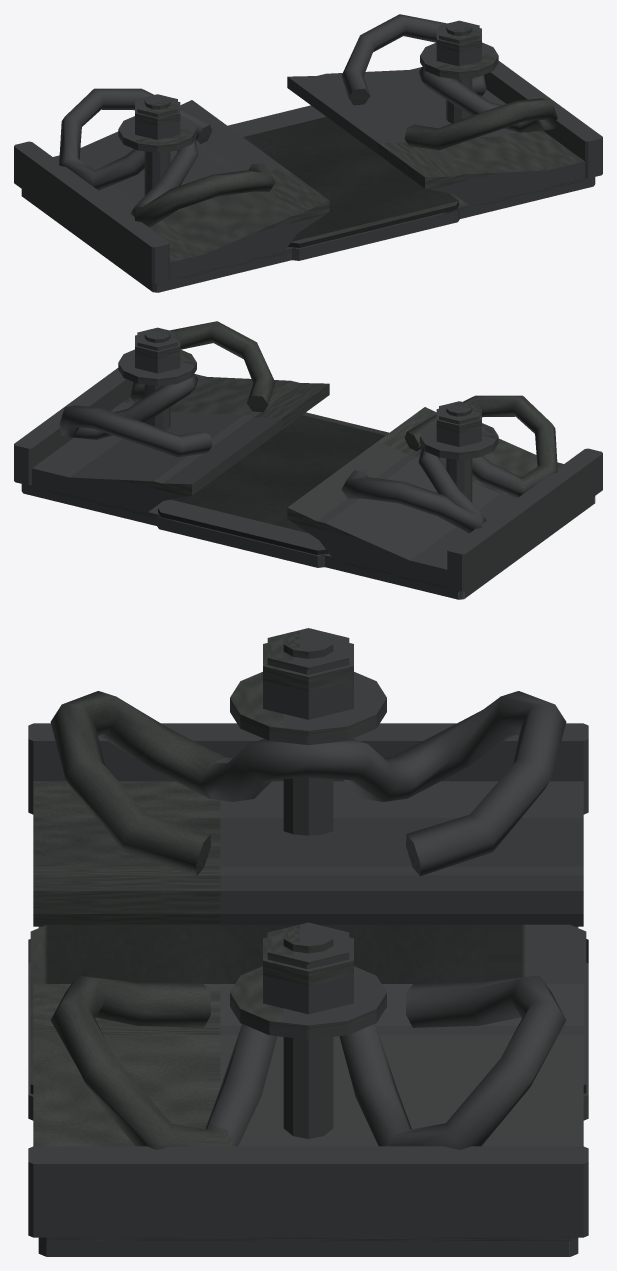
File: fastener.obj
The picture shows the model from 3 angles, top to bottom: view 1: azimuth 30°, elevation 25°; view 2: azimuth 150°, elevation 25°; view 3: azimuth 270°, elevation 25°; orthographic projection. The views are drawn at different scales.
Visible parts, largest first — view 1: fastener; view 2: fastener; view 3: fastener.
Boxes of the visible parts, x1=… form: fastener: x1=14, y1=14, x2=602, y2=292; fastener: x1=14, y1=321, x2=602, y2=599; fastener: x1=28, y1=628, x2=588, y2=1256.
Size of the model in its own units: 0.398 by 0.1066 by 0.214.
